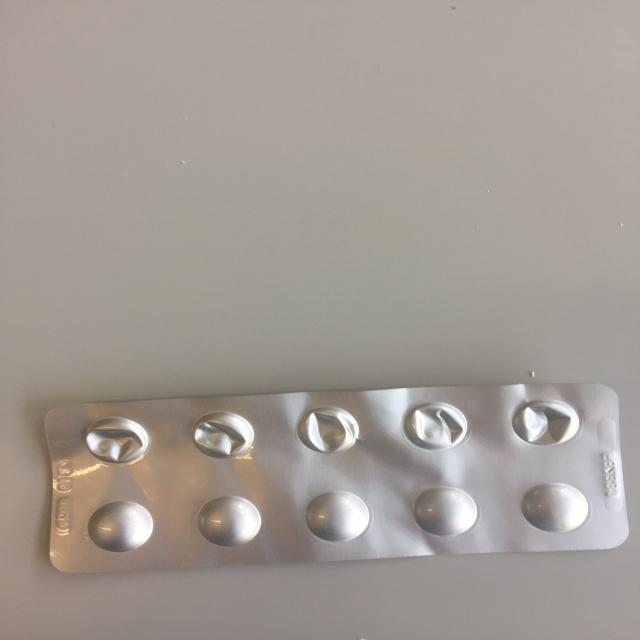Empty: (288, 404, 372, 457), (183, 408, 265, 462), (76, 416, 156, 466), (398, 400, 477, 450), (508, 398, 585, 448)
Pill: (515, 481, 593, 536), (83, 499, 158, 554), (299, 490, 373, 545), (408, 484, 482, 539), (192, 494, 266, 548)
